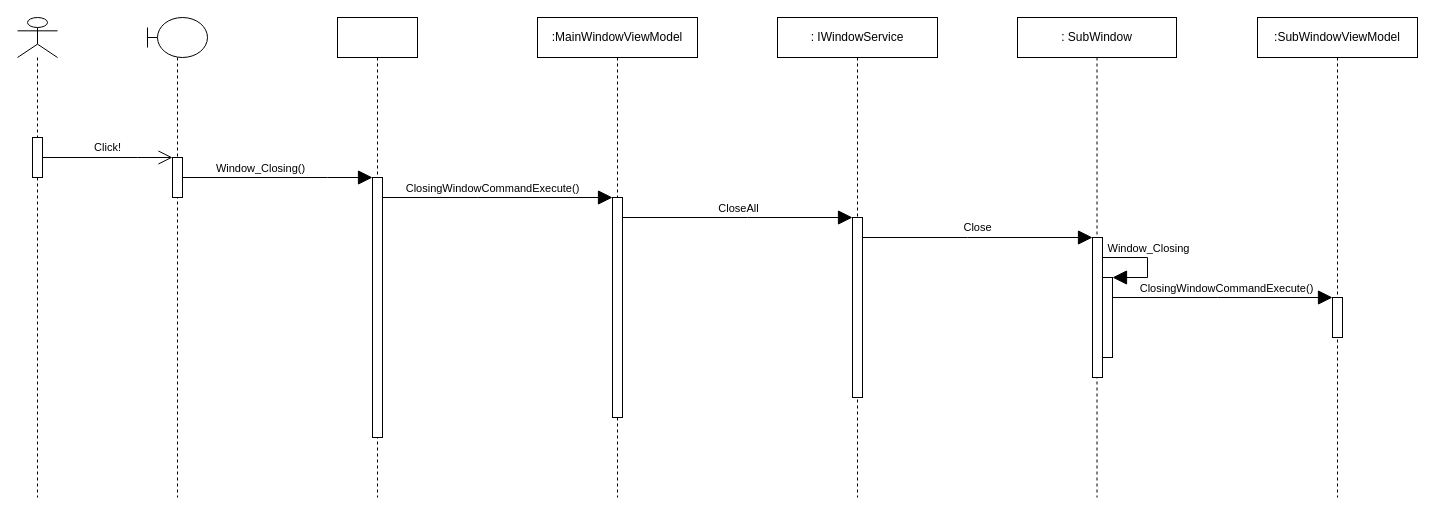
This 1435x515 diagram has some shape labels left out. The box of each missing label's shape, as (x1, y1, x2, y2) in pixels:
:MainWindow: (336, 16, 418, 498)
windo closing button: (146, 16, 208, 498)
